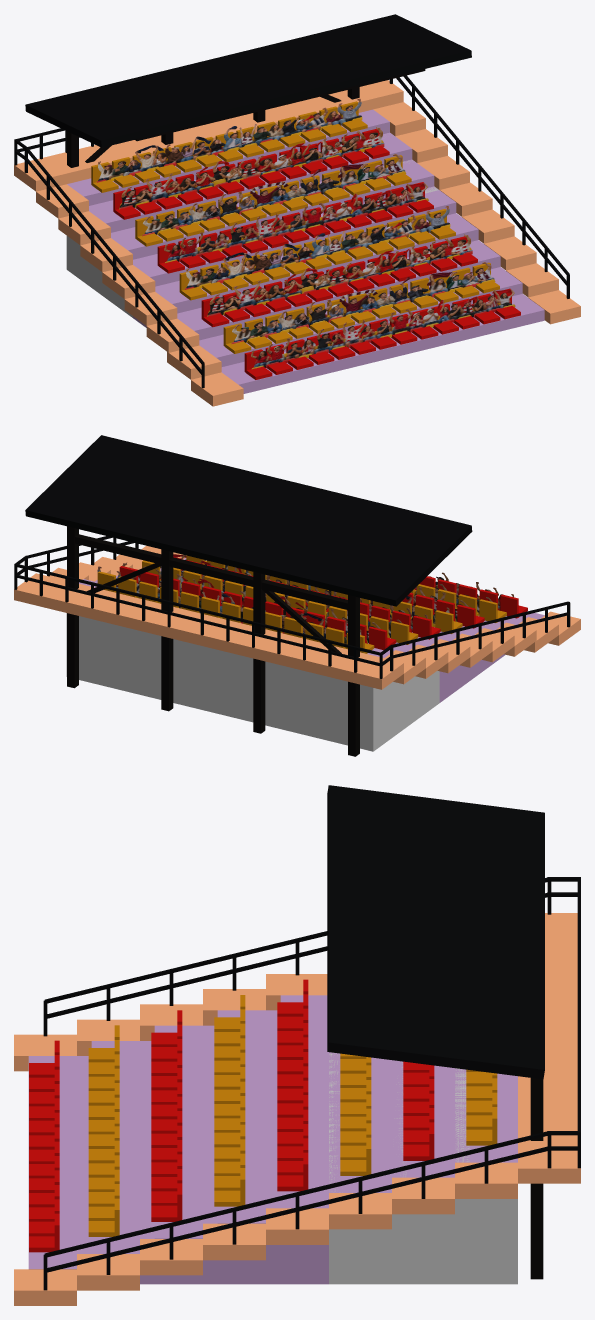
Rendered from Gradas_Sin_Publico.obj.
3 views of the same model, one above another, from view 1: azimuth 30°, elevation 25°; view 2: azimuth 150°, elevation 25°; view 3: azimuth 270°, elevation 25° (orthographic). The views are drawn at different scales.
Visible parts, largest first — view 1: Techo_color, piso, Material.002, Amarillo_Asientos.001, Amarillo_Asientos, publico_3, publico, publico_4, publico_2, Estructura, Material.003; view 2: Techo_color, Material.003, piso, Estructura, Amarillo_Asientos.001, Amarillo_Asientos, Material.002, publico_3, publico_4, publico, publico_2; view 3: Techo_color, Material.002, piso, Amarillo_Asientos, Amarillo_Asientos.001, Material.003, Estructura.
Part boxes in pixels (<box>): Techo_color: <box>14,14,569,387</box>; piso: <box>14,80,580,406</box>; Material.002: <box>67,109,544,393</box>; Amarillo_Asientos.001: <box>91,101,499,353</box>; Amarillo_Asientos: <box>113,129,520,379</box>; publico_3: <box>119,127,472,316</box>; publico: <box>164,183,515,369</box>; publico_4: <box>96,98,450,289</box>; publico_2: <box>142,154,495,343</box>; Estructura: <box>67,69,425,167</box>; Material.003: <box>66,133,438,317</box>; Techo_color: <box>14,435,570,678</box>; Material.003: <box>66,613,439,751</box>; piso: <box>14,545,580,689</box>; Estructura: <box>67,526,359,756</box>; Amarillo_Asientos.001: <box>97,555,506,653</box>; Amarillo_Asientos: <box>119,556,527,650</box>; Material.002: <box>79,558,544,702</box>; publico_3: <box>122,562,468,643</box>; publico_4: <box>97,560,449,648</box>; publico: <box>173,554,513,631</box>; publico_2: <box>160,566,492,637</box>; Techo_color: <box>43,785,580,1290</box>; Material.002: <box>28,995,517,1284</box>; piso: <box>14,913,580,1305</box>; Amarillo_Asientos: <box>29,979,434,1252</box>; Amarillo_Asientos.001: <box>88,995,497,1236</box>; Material.003: <box>329,1052,517,1284</box>; Estructura: <box>530,1078,543,1279</box>.
Bounding box in the file's own units: 14.5 × 6.97 × 13.5.
11 materials, 4 textured.
